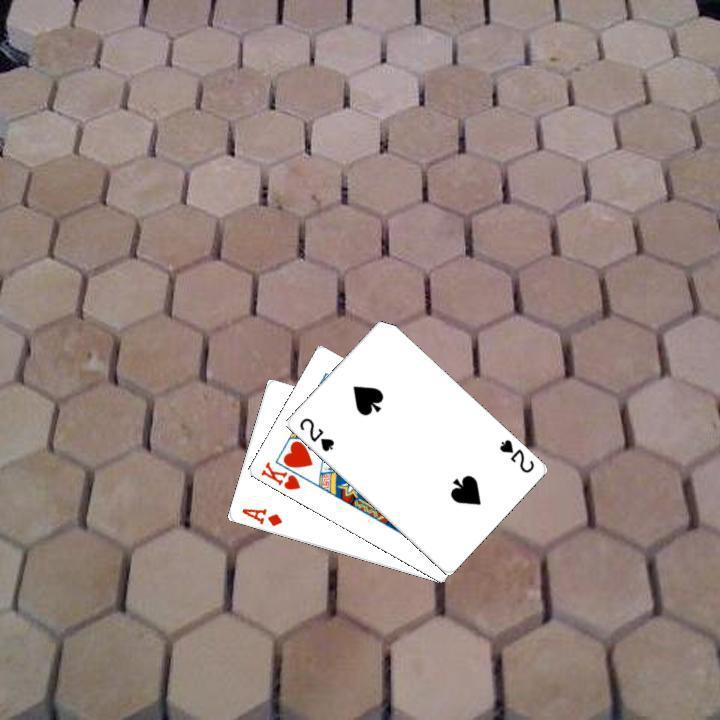2: (294, 413, 336, 454), (494, 435, 536, 475)
A: (237, 504, 284, 528)
K: (256, 457, 302, 492)
